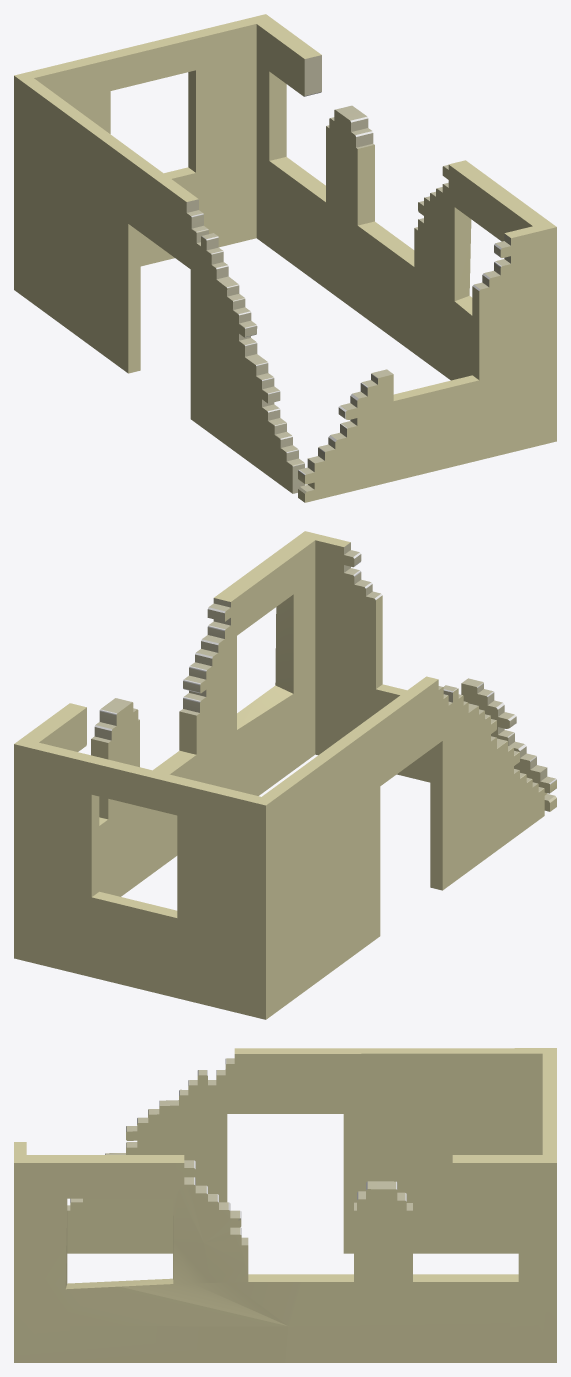
File: BrickBuilding (1).fbx
3 views of the same model, one above another, from view 1: azimuth 30°, elevation 25°; view 2: azimuth 150°, elevation 25°; view 3: azimuth 270°, elevation 25° (orthographic). The views are drawn at different scales.
Visible parts, largest first — view 1: DestroyedBuilding:pasted__pCube16; view 2: DestroyedBuilding:pasted__pCube16; view 3: DestroyedBuilding:pasted__pCube16.
Boxes of the visible parts, box(x1,y1,x2,y2) form: DestroyedBuilding:pasted__pCube16: box(14, 14, 556, 502); DestroyedBuilding:pasted__pCube16: box(14, 531, 556, 1019); DestroyedBuilding:pasted__pCube16: box(14, 1048, 556, 1362).
Size of the model in its own units: 328 by 265 by 651.
